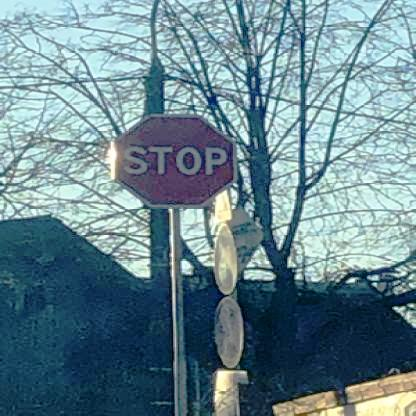Stop Sign: (110, 110, 240, 210)
